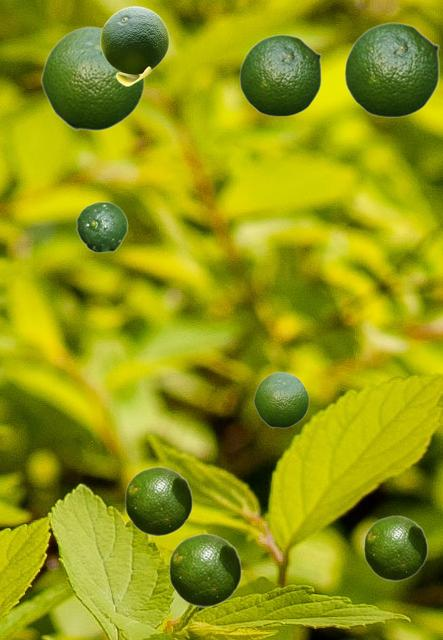calamansi: (40, 25, 144, 130), (344, 22, 439, 117), (239, 34, 321, 116), (100, 6, 168, 85), (168, 533, 241, 606), (124, 466, 192, 535), (363, 515, 427, 580), (253, 371, 308, 427), (76, 201, 127, 252)
